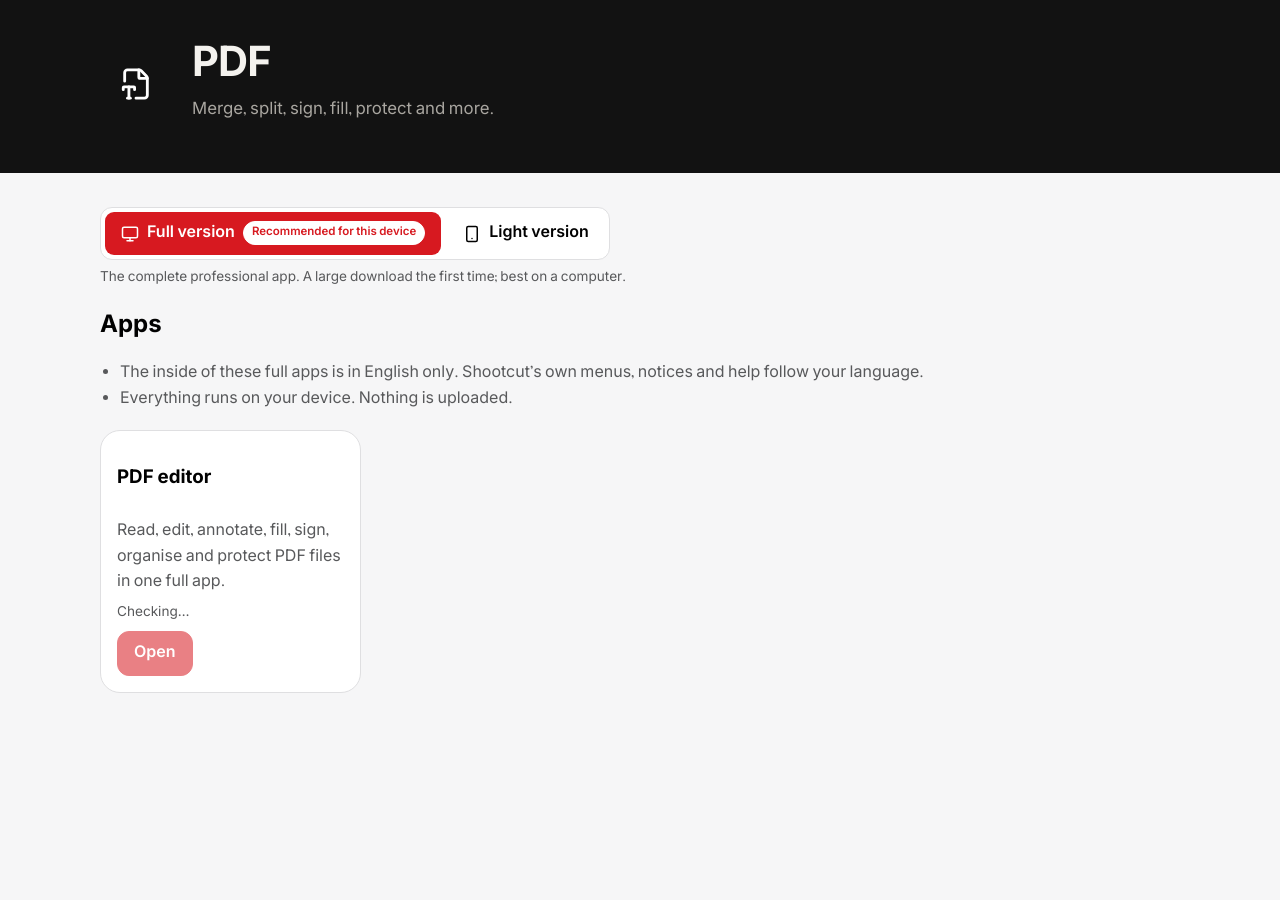
Studios › opens the PDF page on the recommended edition at once, keeps a switch, and remembers the choice
Later steps or results of the test are not shown.
Click the button "Light version". click: (526, 234)
box: [447,212,605,255]
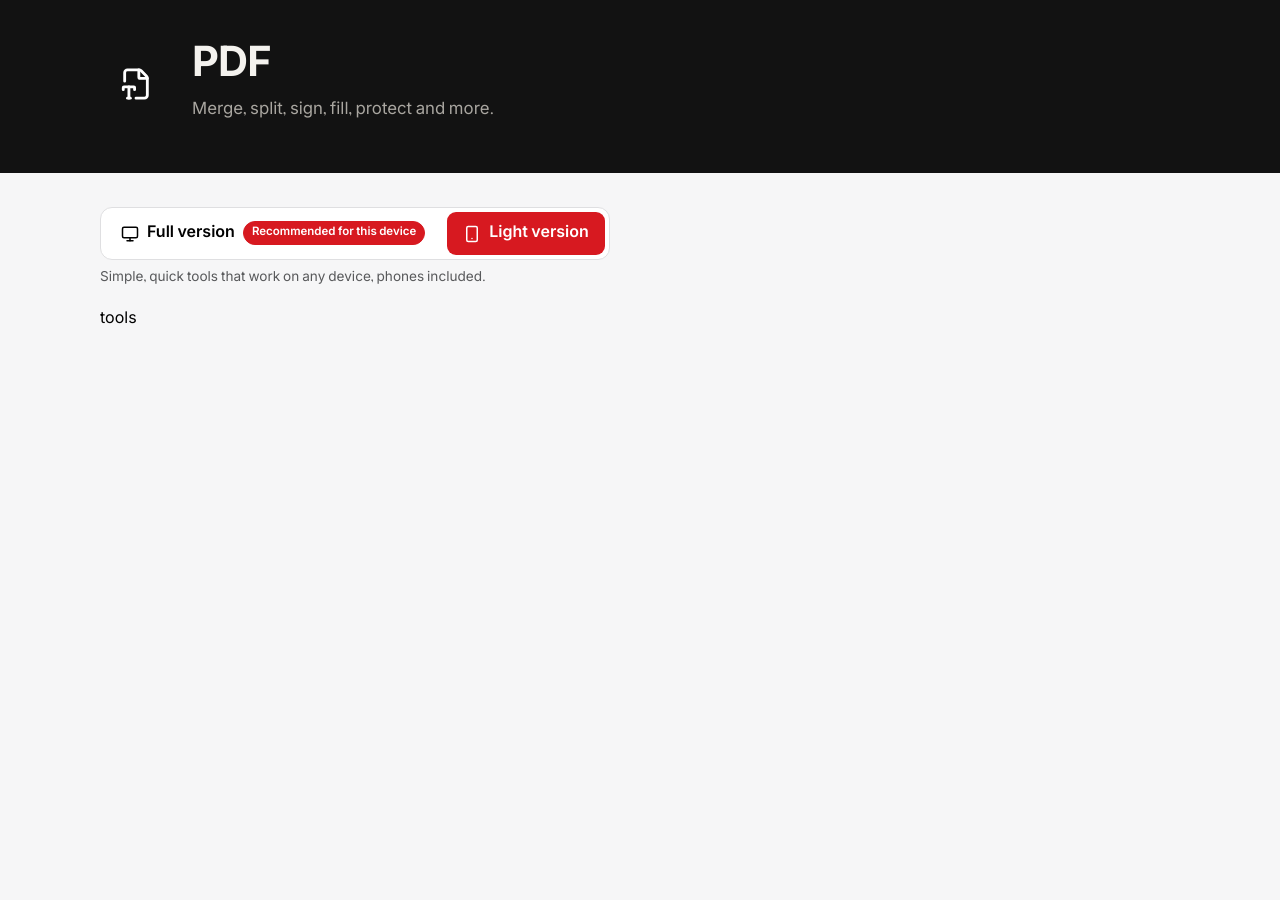
Expected: the text "tools" is shown, [100,308,137,332]
